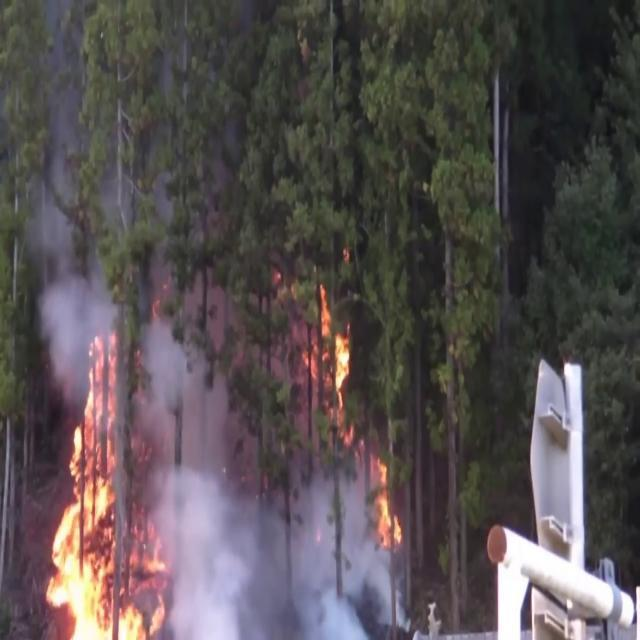Fire: (39, 336, 153, 638), (300, 272, 354, 436), (368, 447, 405, 558)
Smoke: (27, 216, 230, 444), (146, 452, 397, 636)
